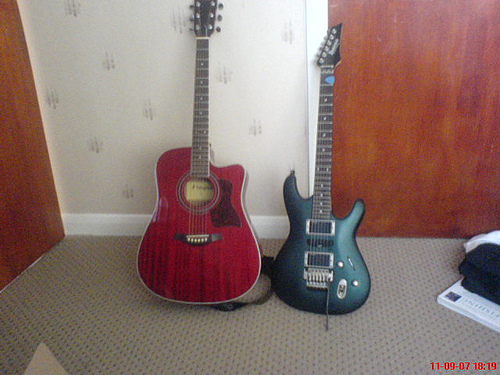guitar: (135, 1, 264, 306)
